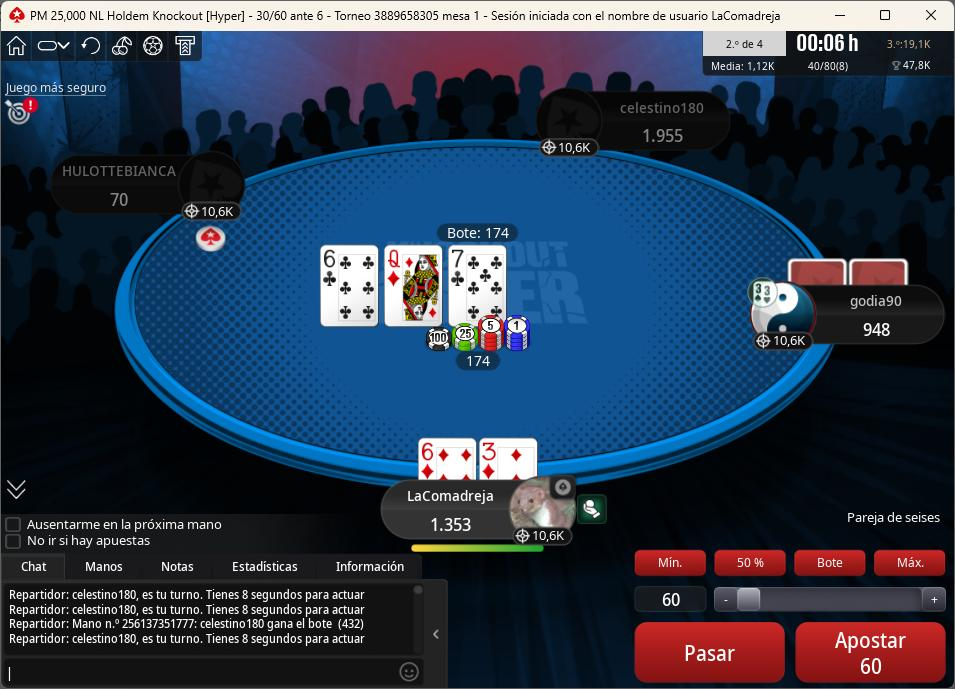ButtonCall: (620, 614, 782, 686)
ButtonMaxRaise: (872, 548, 947, 579)
ButtonMinRaise: (634, 548, 712, 581)
ButtonPotRaise: (791, 548, 868, 580)
ButtonRaise: (793, 618, 949, 684)
Dealer: (191, 221, 240, 255)
HiddenCards: (783, 259, 912, 287)
Player: (745, 284, 952, 352), (49, 151, 248, 214), (546, 96, 736, 160)
PlayerChips: (633, 125, 692, 143), (858, 323, 903, 343), (98, 192, 137, 211)
Pot: (434, 225, 523, 244)
PrincipalCards: (415, 439, 547, 484)
PrincipalCards1: (418, 434, 479, 482)
PrincipalCards2: (478, 438, 540, 482)
PrincipalPlayer: (381, 477, 586, 553)
PrincipalPlayerChips: (424, 518, 485, 538)
ShowedCards: (315, 239, 521, 333)
ShowedCards1: (319, 243, 379, 327)
ShowedCards2: (384, 243, 443, 327)
ShowedCards3: (447, 242, 508, 331)
SmallBigBlind: (246, 7, 336, 28)
TablePot: (413, 320, 564, 384)
